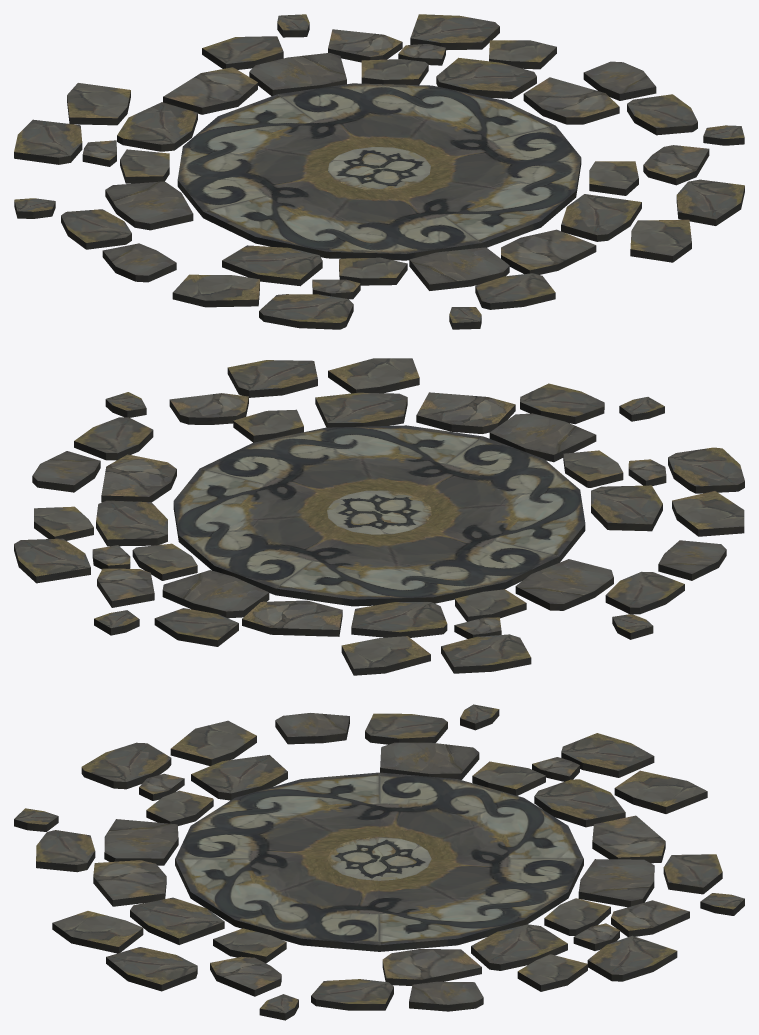
Rendered from AN_CrescentMoon.FBX.
3 views of the same model, one above another, from view 1: azimuth 30°, elevation 25°; view 2: azimuth 150°, elevation 25°; view 3: azimuth 270°, elevation 25° (orthographic). The views are drawn at different scales.
Visible parts, largest first — view 1: AN_CrescentMoon; view 2: AN_CrescentMoon; view 3: AN_CrescentMoon.
Part boxes in pixels (x1,y1,x2,y2): AN_CrescentMoon: [14, 14, 744, 329]; AN_CrescentMoon: [14, 358, 744, 675]; AN_CrescentMoon: [14, 704, 744, 1020].
Bounding box in the file's own units: 3092 × 33.71 × 3092.
1 material, 1 textured.
